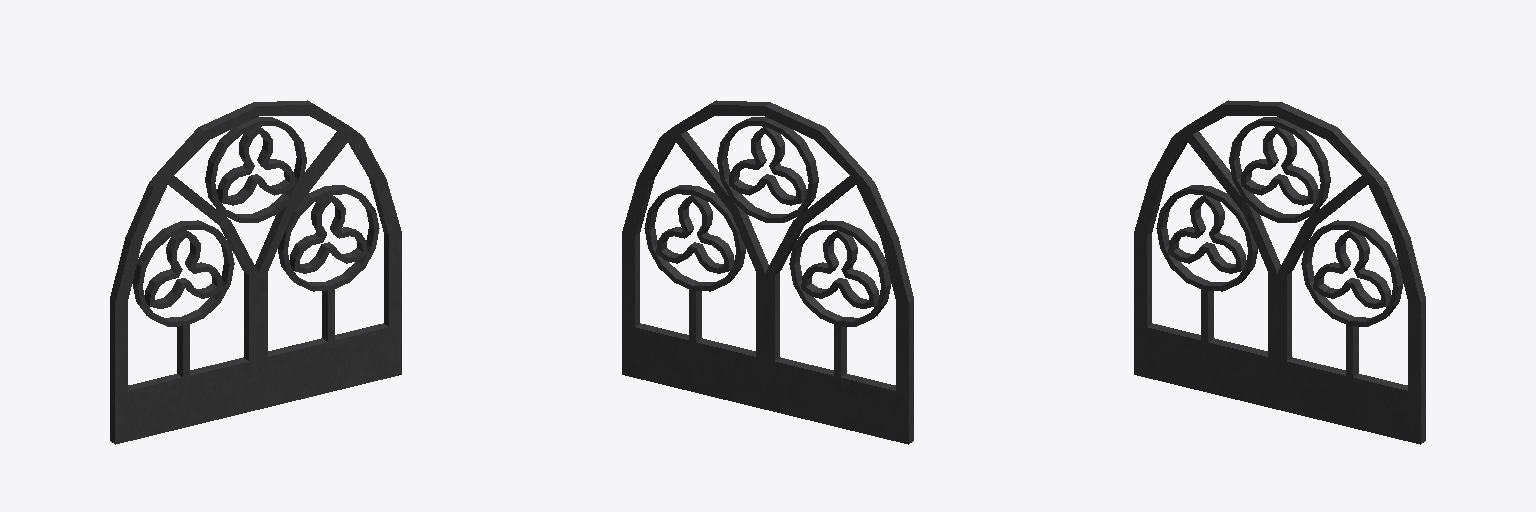
The picture shows the model from 3 angles: view 1: azimuth 30°, elevation 25°; view 2: azimuth 150°, elevation 25°; view 3: azimuth 330°, elevation 25°; orthographic projection.
Visible parts, largest first — view 1: Circle_Circle.004; view 2: Circle_Circle.004; view 3: Circle_Circle.004.
Boxes of the visible parts, <box> form: Circle_Circle.004: <box>110,100,401,444</box>; Circle_Circle.004: <box>622,100,913,444</box>; Circle_Circle.004: <box>1134,100,1425,444</box>.
Size of the model in its own units: 2.97 by 3 by 0.1.
Materials: 1 (1 with a texture image).